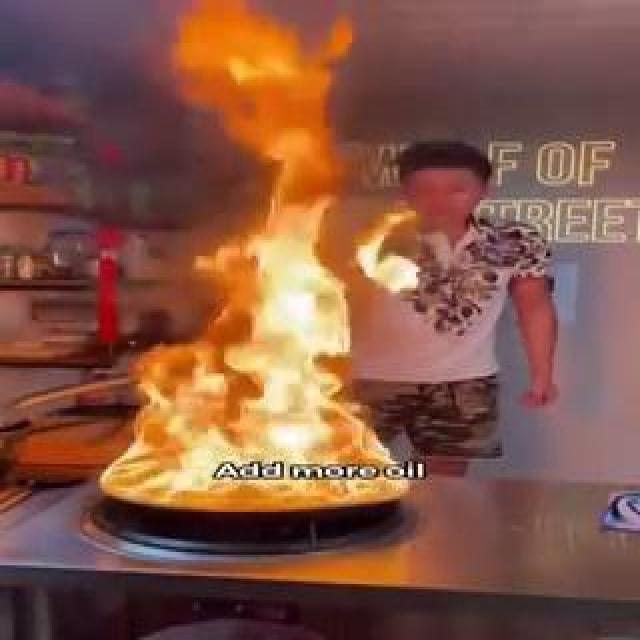Fire: (85, 173, 411, 518)
